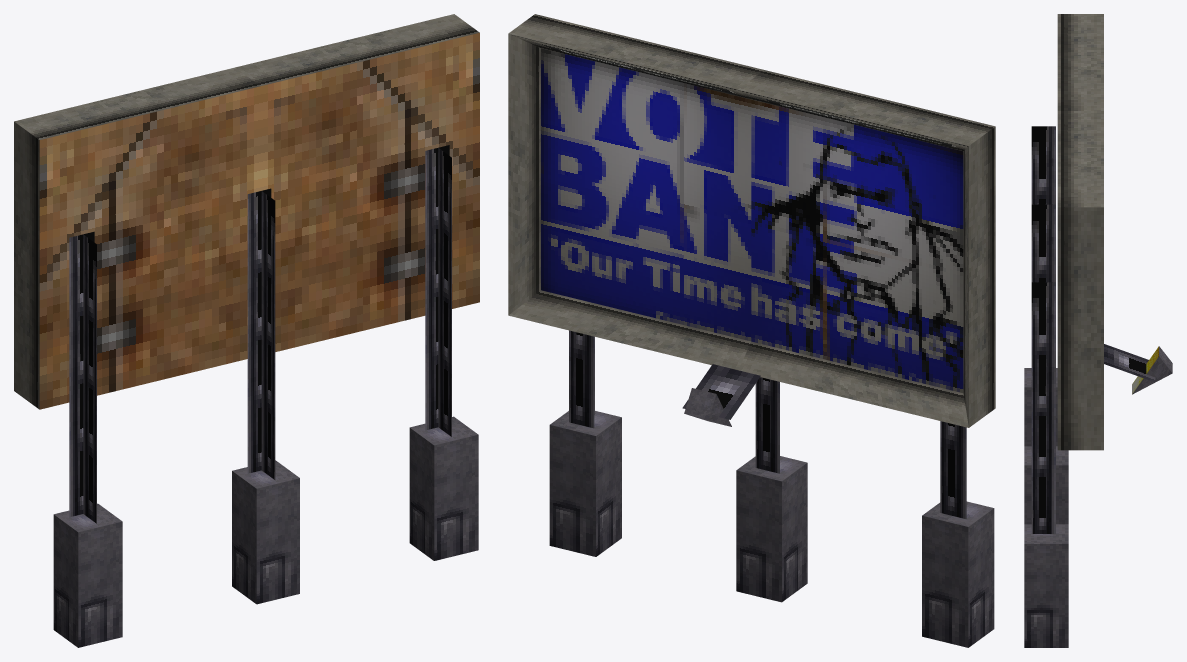
3 renders of one model, left to right at view 1: azimuth 30°, elevation 25°; view 2: azimuth 150°, elevation 25°; view 3: azimuth 270°, elevation 25°, orthographic. The views are drawn at different scales.
Visible parts, largest first — view 1: prim007-Adsign1.001; view 2: prim007-Adsign1.001; view 3: prim007-Adsign1.001.
Boxes of the visible parts, box(x1,y1,x2,y2) form: prim007-Adsign1.001: box(14, 14, 479, 647); prim007-Adsign1.001: box(508, 14, 995, 647); prim007-Adsign1.001: box(1024, 14, 1172, 647).
Size of the model in its own units: 506 by 548 by 164.
Materials: 5 (5 with a texture image).
